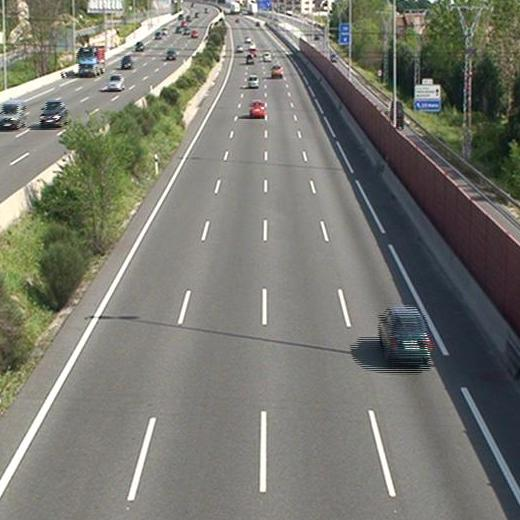car: (379, 307, 431, 361), (250, 101, 265, 117), (270, 64, 283, 78), (247, 75, 258, 88), (245, 53, 254, 64)
